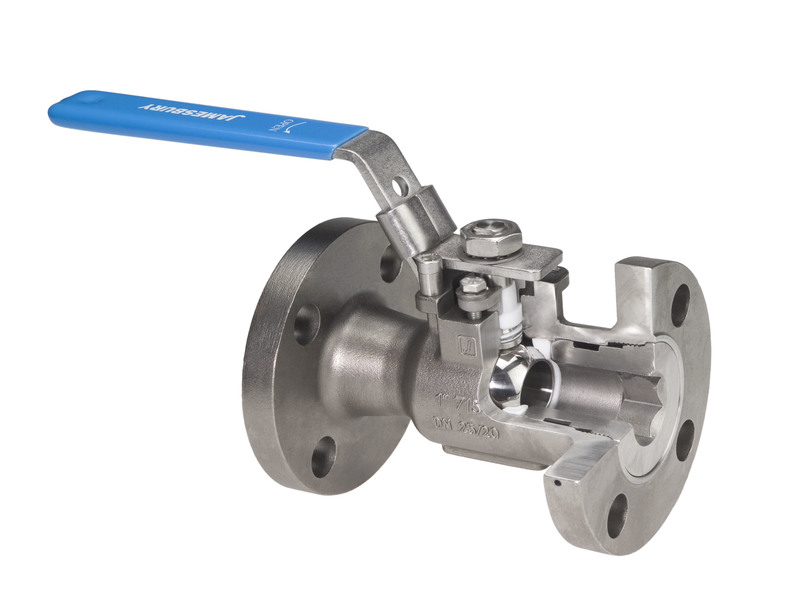valve: (33, 53, 749, 574)
